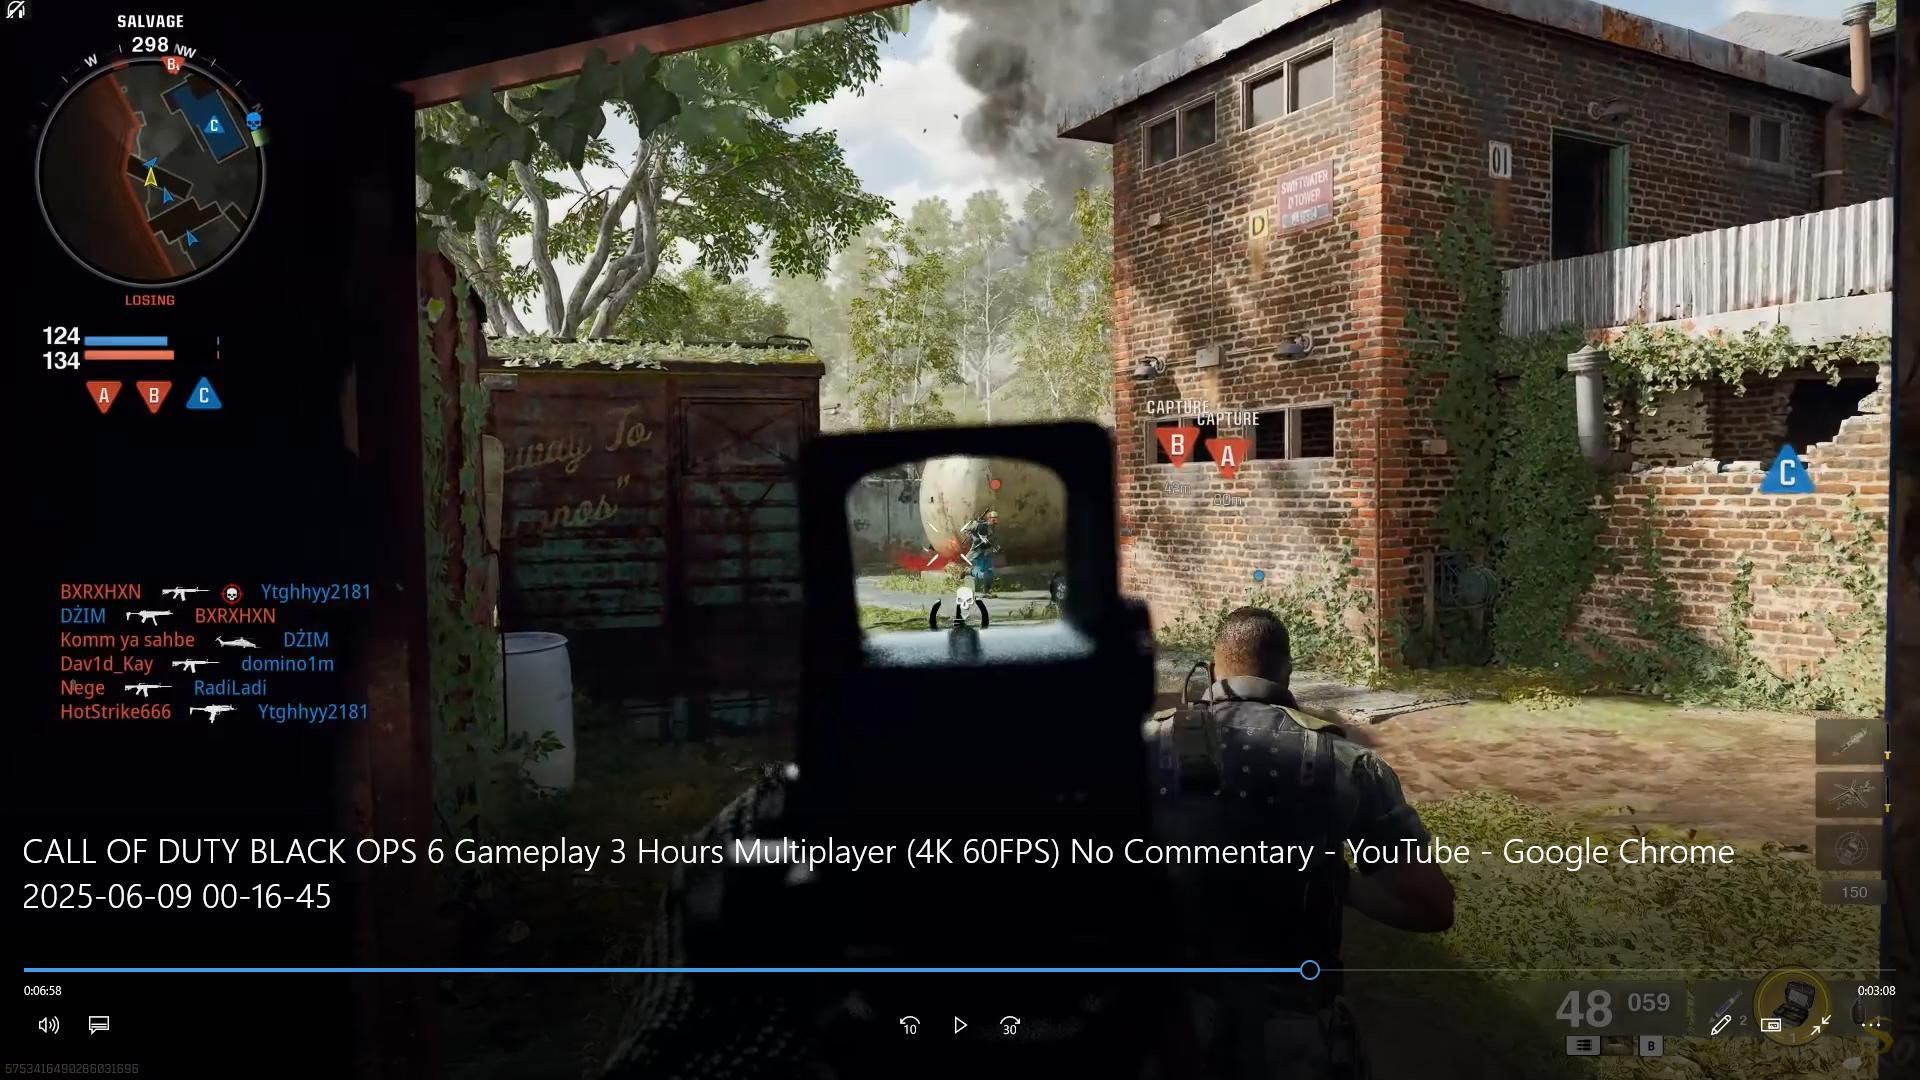Enemy: (1159, 589, 1375, 836), (960, 498, 1006, 601)
